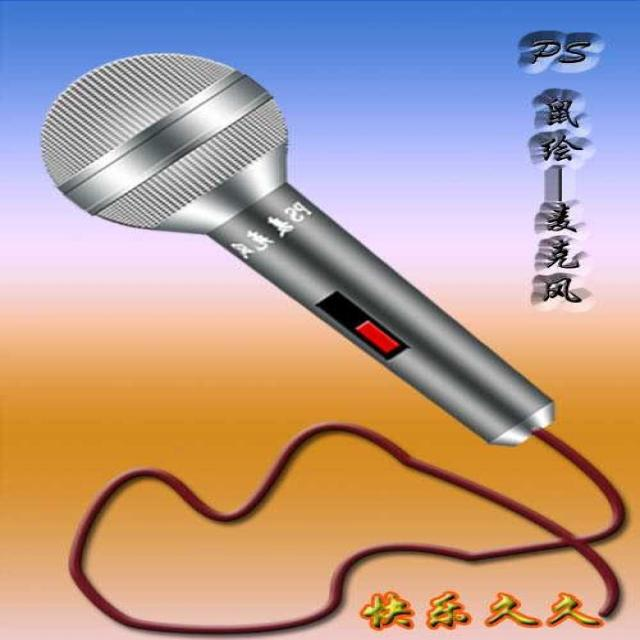microphone: (35, 45, 554, 446)
